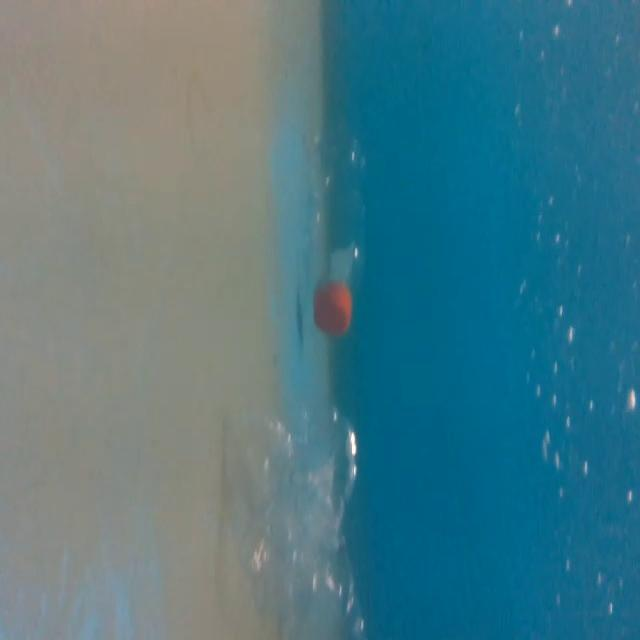plastic bottle: (227, 406, 389, 640), (298, 115, 377, 345)
